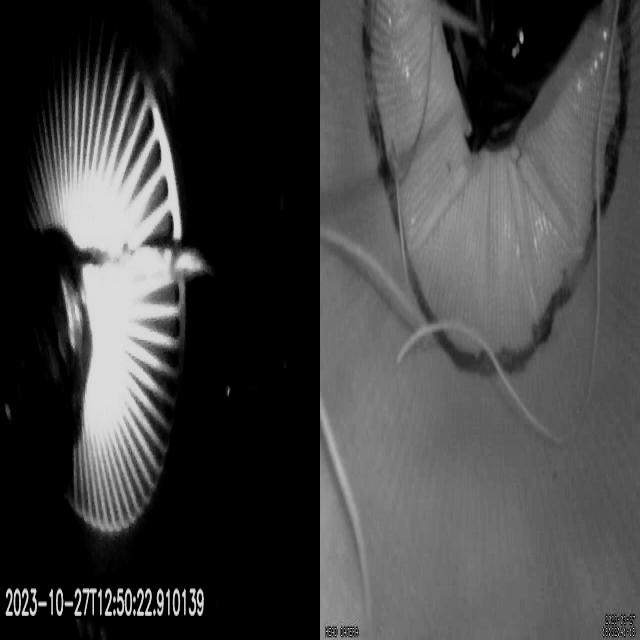red-circle: (360, 1, 632, 374)
